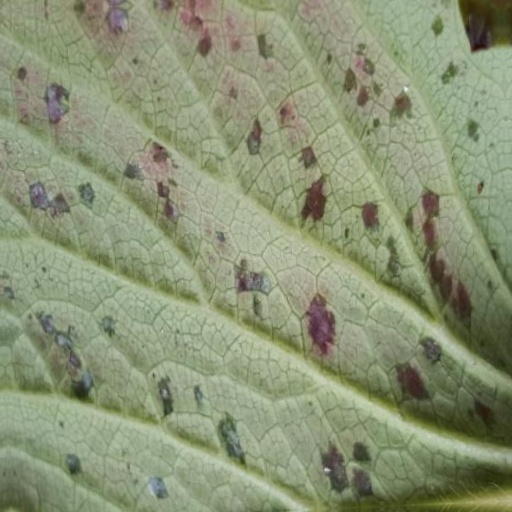Angular Leafspot: (0, 0, 511, 511)
